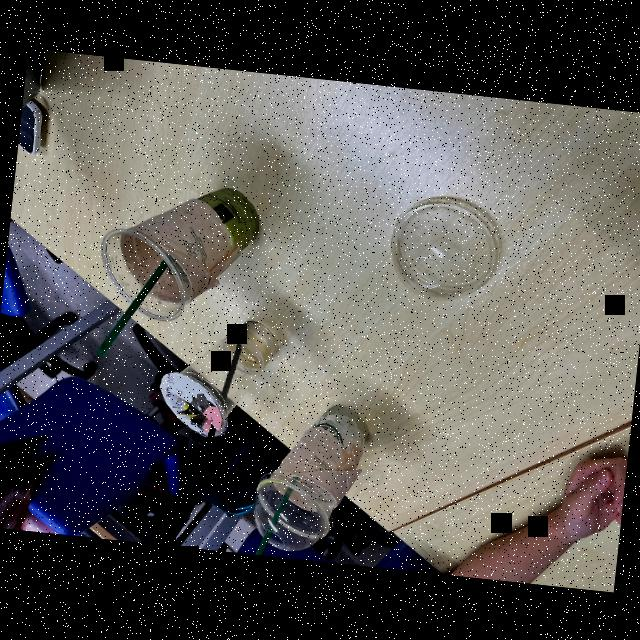plastic_cup: (88, 156, 264, 324), (150, 298, 286, 441), (255, 385, 368, 543)
plastic_cup_lid: (384, 190, 509, 316), (244, 468, 336, 562)
straw: (80, 235, 177, 373), (184, 348, 236, 488), (240, 470, 296, 558)
